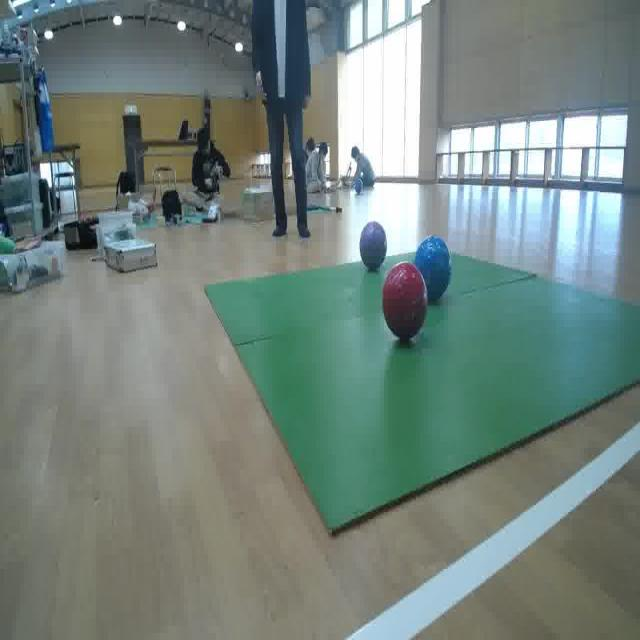blue_ball: (416, 236, 452, 300)
purple_ball: (360, 218, 386, 268)
red_ball: (382, 262, 429, 340)
